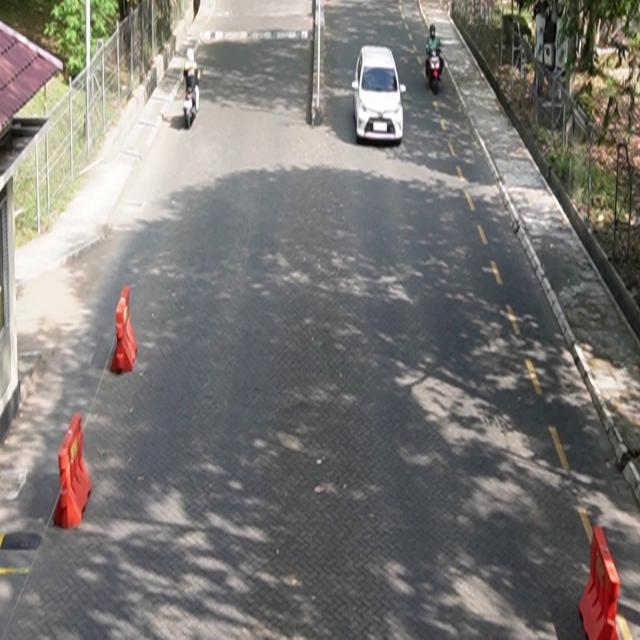car: (352, 46, 407, 146)
